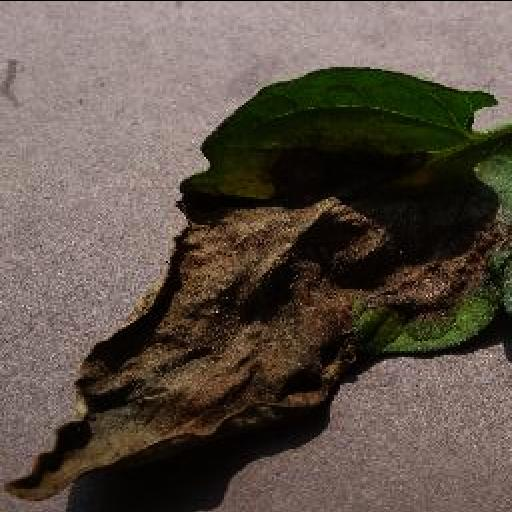disease_tomato: (0, 60, 512, 506)
